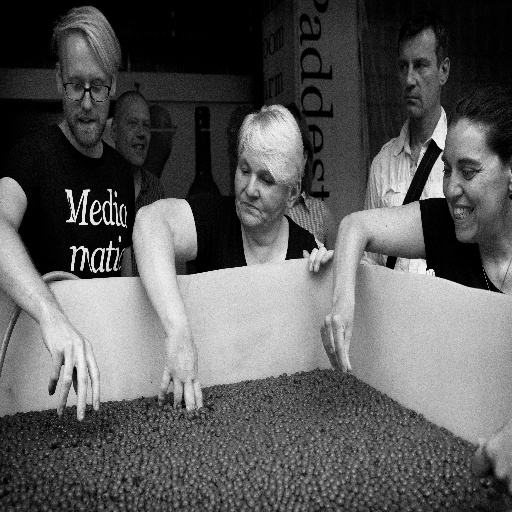hand: (33, 289, 97, 418), (156, 328, 206, 416), (469, 417, 511, 497), (318, 295, 353, 375), (302, 245, 336, 275)
